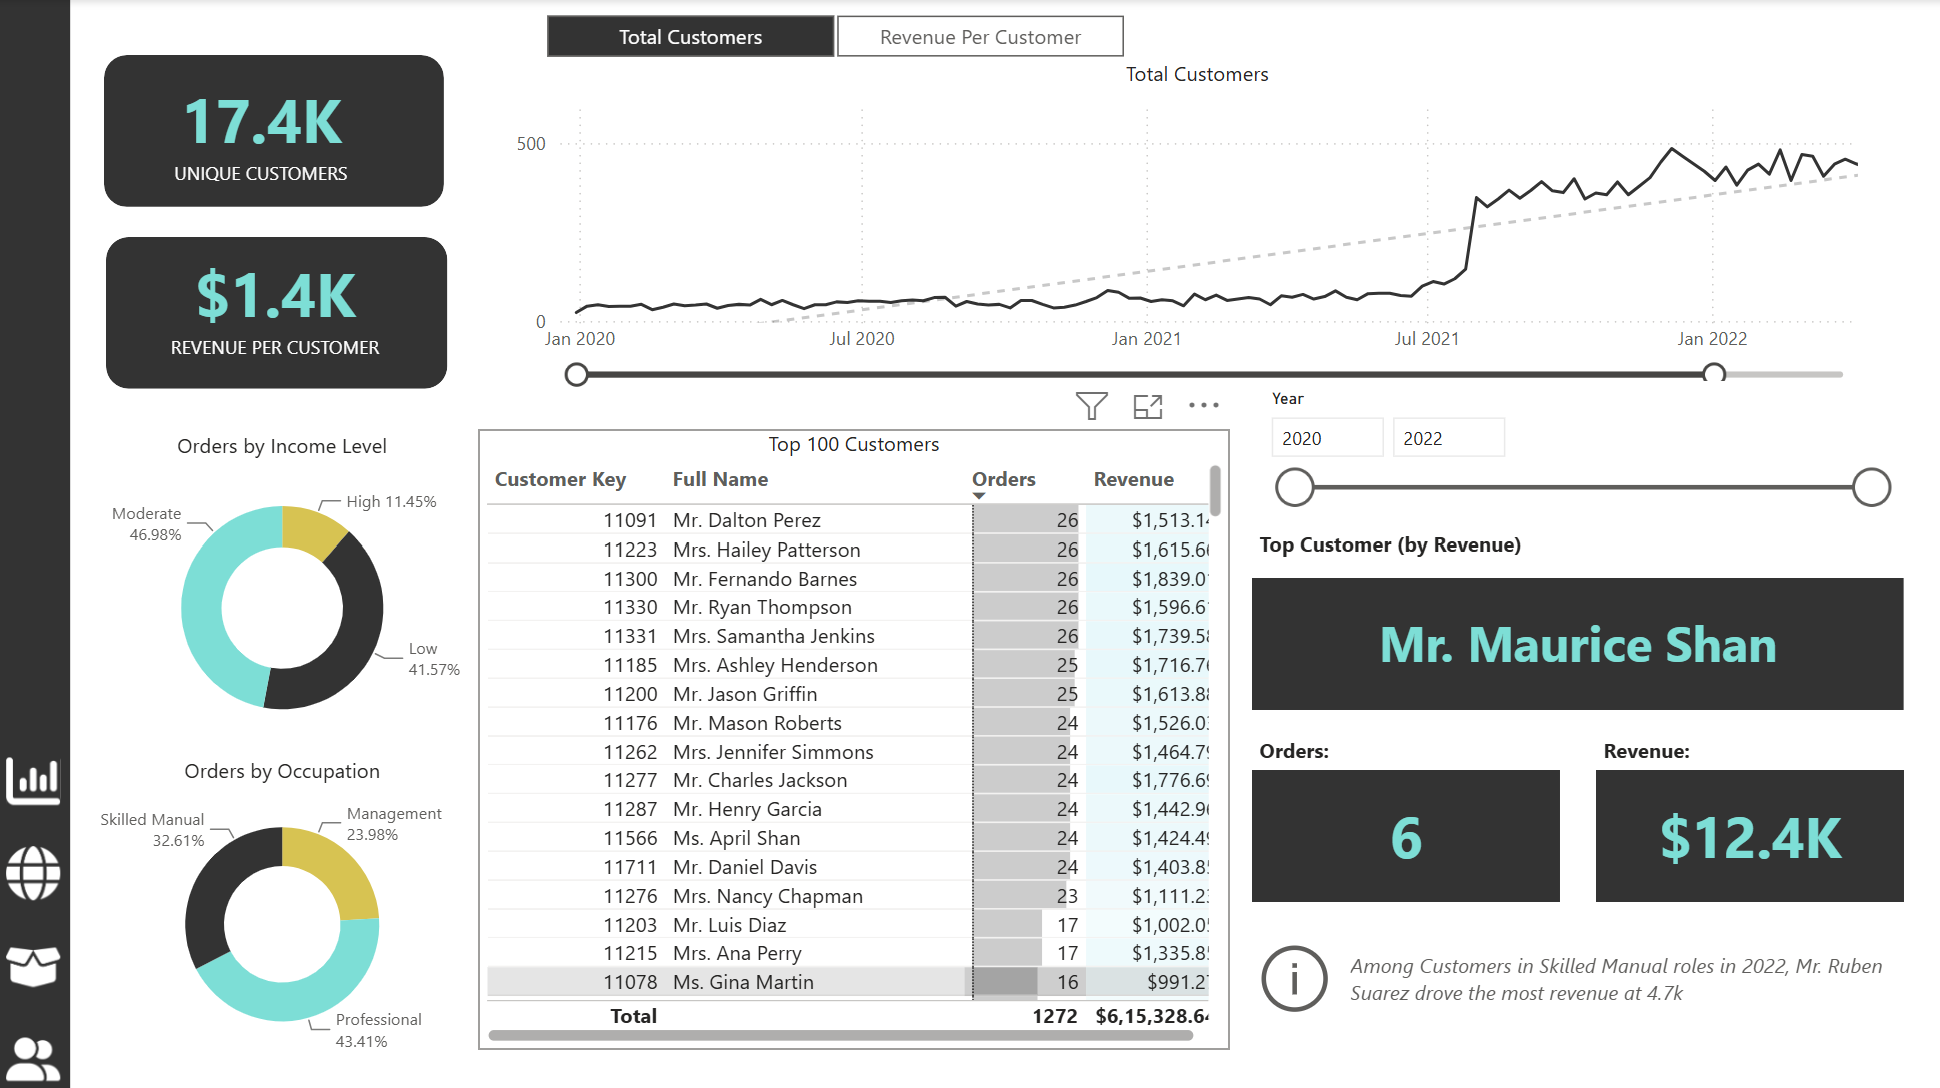

What the dashboard file says about the page in this screenshot:
{"tool":"powerbi","page":{"name":"Customer Detail","canvas":[1280,720],"ordinal":3},"visuals":[{"type":"shape","box":[68.5,36.9,224.1,100.2],"z":0},{"type":"shape","box":[70.2,157.4,225,100],"z":1000},{"type":"card","fields":{"Values":["Measure Table.Total Customers"]},"box":[51.4,17.1,241.2,139.7],"z":2000},{"type":"card","fields":{"Values":["Measure Table.Average Revenue Per Customer"]},"box":[60,131.2,241.2,140],"z":3000},{"type":"lineChart","fields":{"Category":["Calendar Lookup.Start of Week"],"Y":["Measure Table.Total Customers"]},"box":[335,40,908.8,218.8],"z":4000},{"type":"donutChart","title":"Orders by Income Level","fields":{"Series":["Customer Lookup.Income Level"],"Y":["Measure Table.Total Orders"]},"box":[59.9,284.5,253.4,214.3],"z":5000},{"type":"donutChart","title":"Orders by Occupation","fields":{"Series":["Customer Lookup.Occupation"],"Y":["Measure Table.Total Orders"]},"box":[59.9,498.8,253.4,203.9],"z":6000},{"type":"tableEx","title":"Top 100 Customers","fields":{"Values":["Customer Lookup.CustomerKey","Customer Lookup.Customer Full Name (CC)","Measure Table.Total Orders","Measure Table.Total Revenue"]},"box":[315.1,283.4,495.7,408.7],"z":7000},{"type":"card","fields":{"Values":["Measure Table.Full Name (Customer Detail)"]},"box":[824.8,380.3,429.7,87],"z":8000},{"type":"card","fields":{"Values":["Measure Table.Total Revenue (Customer Detail)"]},"box":[1051.6,507.9,203,87],"z":9000},{"type":"card","fields":{"Values":["Measure Table.Total Orders (Customer Detail)"]},"box":[824.8,507.9,203,87],"z":10000},{"type":"textbox","box":[824.8,343.4,299.2,31.6],"z":11000},{"type":"textbox","box":[1051.6,479.2,180.6,31.6],"z":12000},{"type":"textbox","box":[824.8,479.2,133.1,31.6],"z":13000},{"type":"slicer","fields":{"Values":["Calendar Lookup.Year"]},"box":[824.8,252.3,429.7,91],"z":14000},{"type":"actionButton","box":[3.8,0,46.2,40],"z":15000},{"type":"actionButton","box":[825,617.5,428.8,56.2],"z":16000},{"type":"shape","title":"Left Nav Background","box":[0,0,46.2,720],"z":17000},{"type":"actionButton","box":[0.6,492.5,46.2,43.8],"z":18000},{"type":"actionButton","box":[0.6,615,46.2,43.8],"z":19000},{"type":"actionButton","box":[0.6,676.2,46.2,43.8],"z":20000},{"type":"actionButton","box":[0.6,553.8,46.2,43.8],"z":21000},{"type":"slicer","fields":{"Values":["Customer Metric Selection.Customer Metric Selection"]},"box":[335,3.8,430,36.2],"z":22000}]}

Visuals, with their boxes on the page's 1280x720 design canvas (x1, y1, x2, y2). These are canvas units, not pixel positions in the 1940x1088 screenshot, which may show the page scaled, cropped or inside an application window:
shape: detection(68, 37, 293, 137)
shape: detection(70, 157, 295, 257)
card - Measure Table.Total Customers: detection(51, 17, 293, 157)
card - Measure Table.Average Revenue Per Customer: detection(60, 131, 301, 271)
lineChart - Calendar Lookup.Start of Week x Measure Table.Total Customers: detection(335, 40, 1244, 259)
"Orders by Income Level" donutChart: detection(60, 284, 313, 499)
"Orders by Occupation" donutChart: detection(60, 499, 313, 703)
"Top 100 Customers" tableEx: detection(315, 283, 811, 692)
card - Measure Table.Full Name (Customer Detail): detection(825, 380, 1254, 467)
card - Measure Table.Total Revenue (Customer Detail): detection(1052, 508, 1255, 595)
card - Measure Table.Total Orders (Customer Detail): detection(825, 508, 1028, 595)
textbox: detection(825, 343, 1124, 375)
textbox: detection(1052, 479, 1232, 511)
textbox: detection(825, 479, 958, 511)
slicer - Calendar Lookup.Year: detection(825, 252, 1254, 343)
actionButton: detection(4, 0, 50, 40)
actionButton: detection(825, 618, 1254, 674)
"Left Nav Background" shape: detection(0, 0, 46, 720)
actionButton: detection(1, 492, 47, 536)
actionButton: detection(1, 615, 47, 659)
actionButton: detection(1, 676, 47, 720)
actionButton: detection(1, 554, 47, 598)
slicer - Customer Metric Selection.Customer Metric Selection: detection(335, 4, 765, 40)
